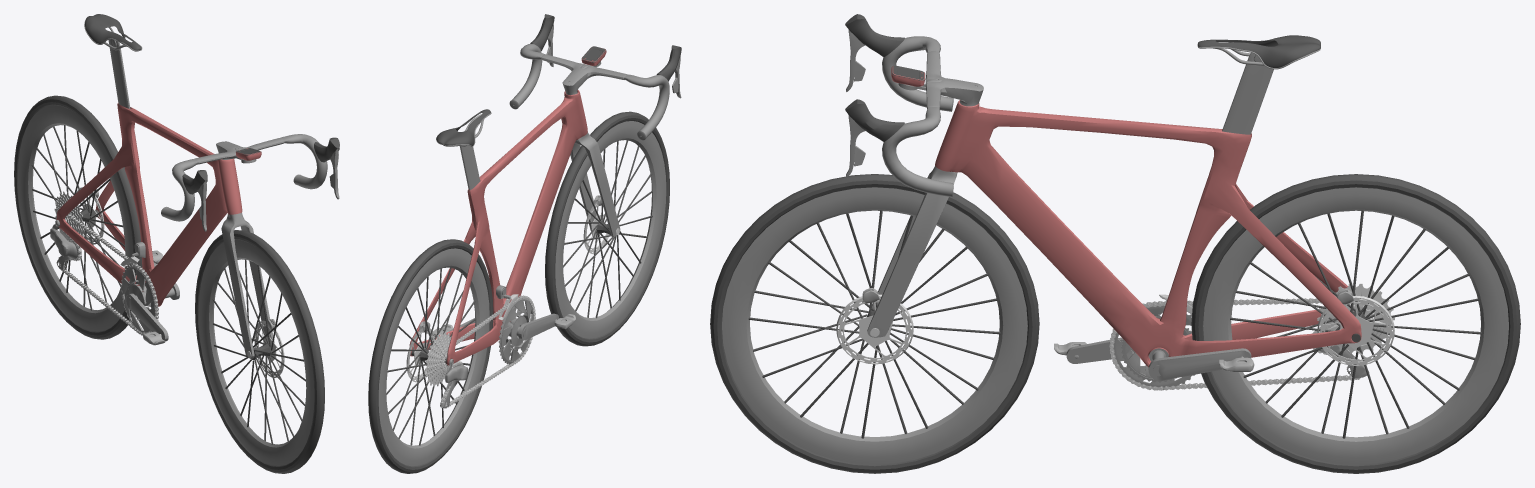
Rendered from canyon_aeroad.glb.
3 renders of one model, left to right at view 1: azimuth 30°, elevation 25°; view 2: azimuth 150°, elevation 25°; view 3: azimuth 270°, elevation 25°, orthographic. The views are drawn at different scales.
Visible parts, largest first — view 1: part1, part0; view 2: part1, part0; view 3: part0, part1.
Part boxes in pixels (x1,y1,x2,y2): part1: (14, 95, 324, 473); part0: (50, 14, 339, 447); part1: (368, 111, 669, 473); part0: (407, 14, 681, 408); part0: (722, 14, 1394, 464); part1: (710, 174, 1520, 473).
Size of the model in its own units: 0.4795 by 1.06 by 1.79.
